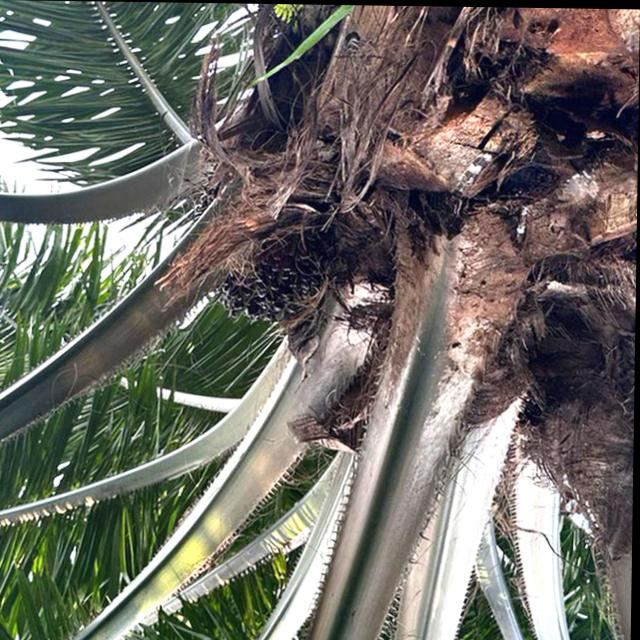ripe: (206, 216, 363, 342)
